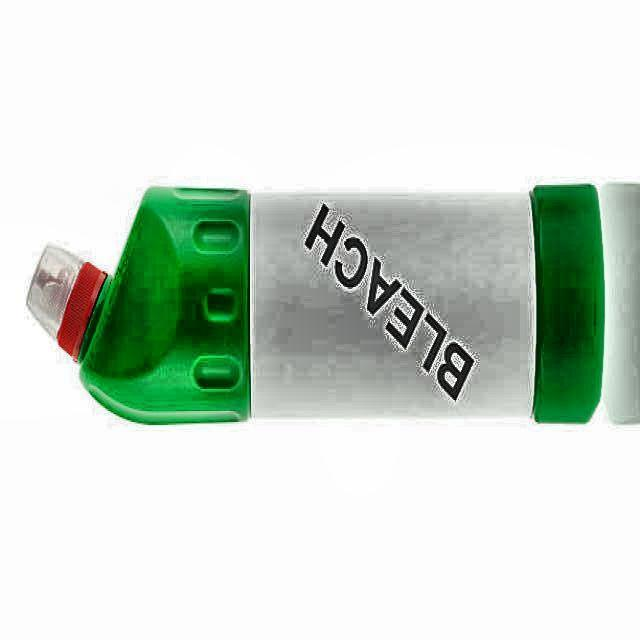plastic: (29, 184, 605, 423)
